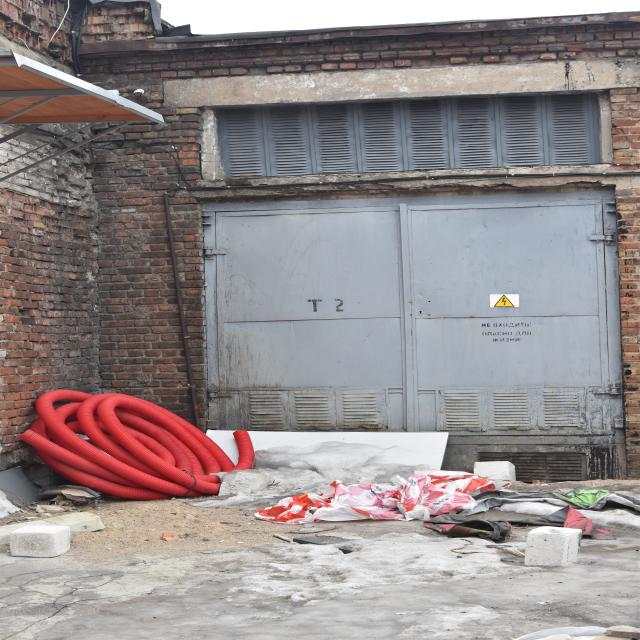entulho: (2, 386, 238, 504), (210, 427, 450, 483), (284, 464, 475, 524), (437, 489, 627, 546), (61, 493, 90, 503), (209, 390, 235, 398)
